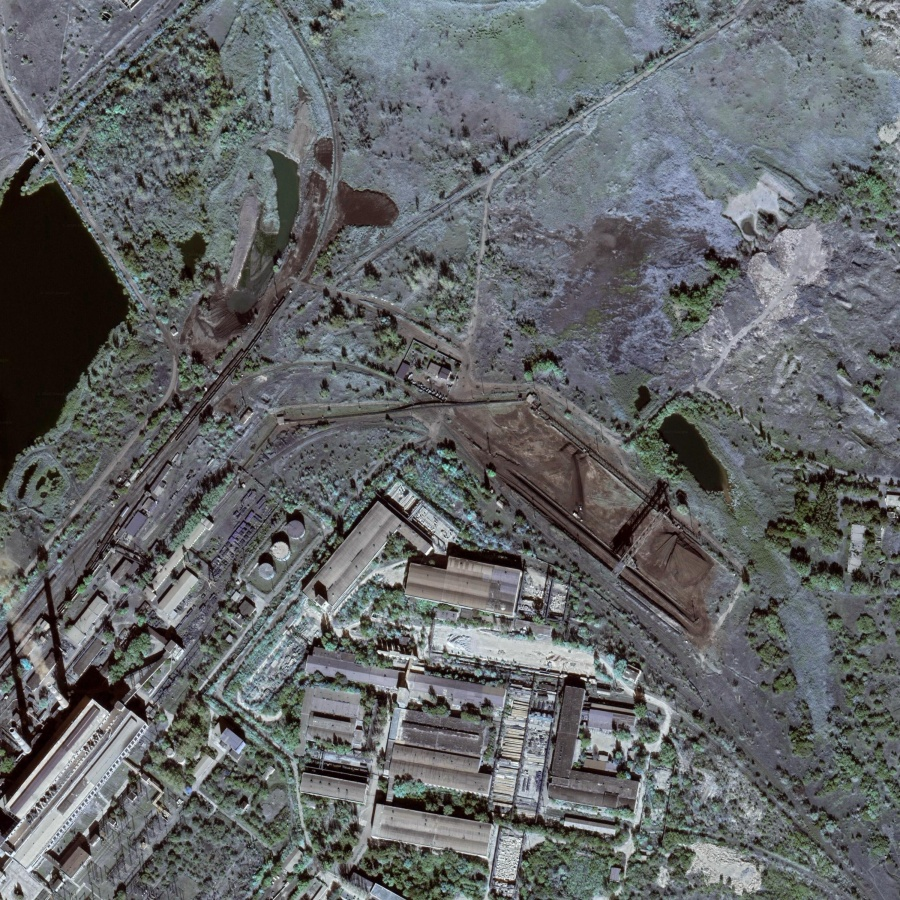PowerPlant: (429, 383, 719, 636)
